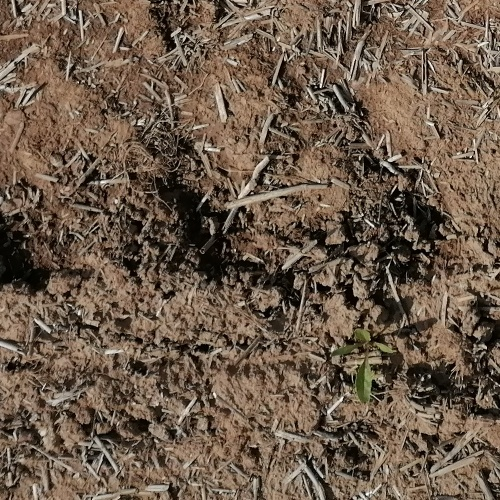beet: (331, 327, 397, 405)
